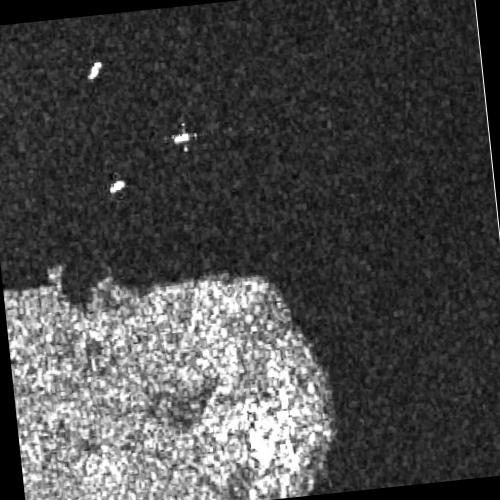ship: (88, 59, 102, 82), (109, 177, 125, 195), (173, 130, 190, 145)
